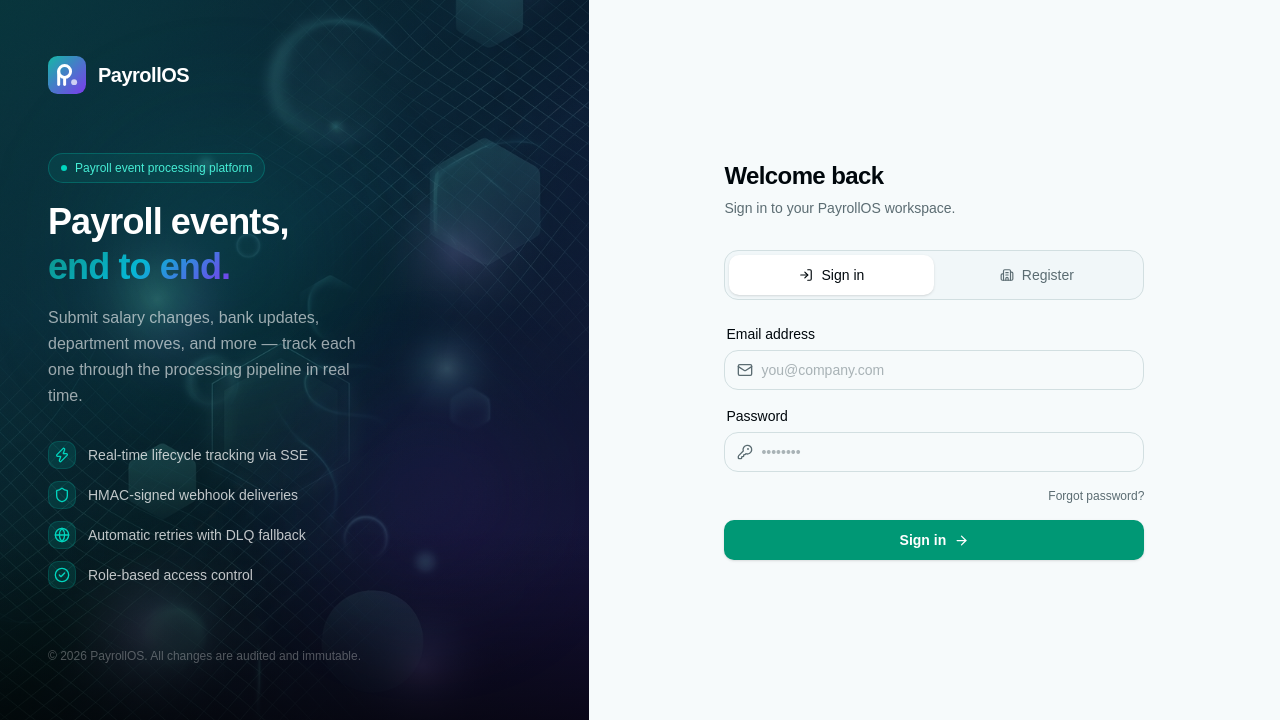
Scenario: AuthView › surfaces a failed sign-in without clearing the typed values
The width and height of the screenshot is (1280, 720).
In the field labelled "Email address": x=934, y=370 left=725, top=351, right=1143, bottom=389, type "owner@acme.example"
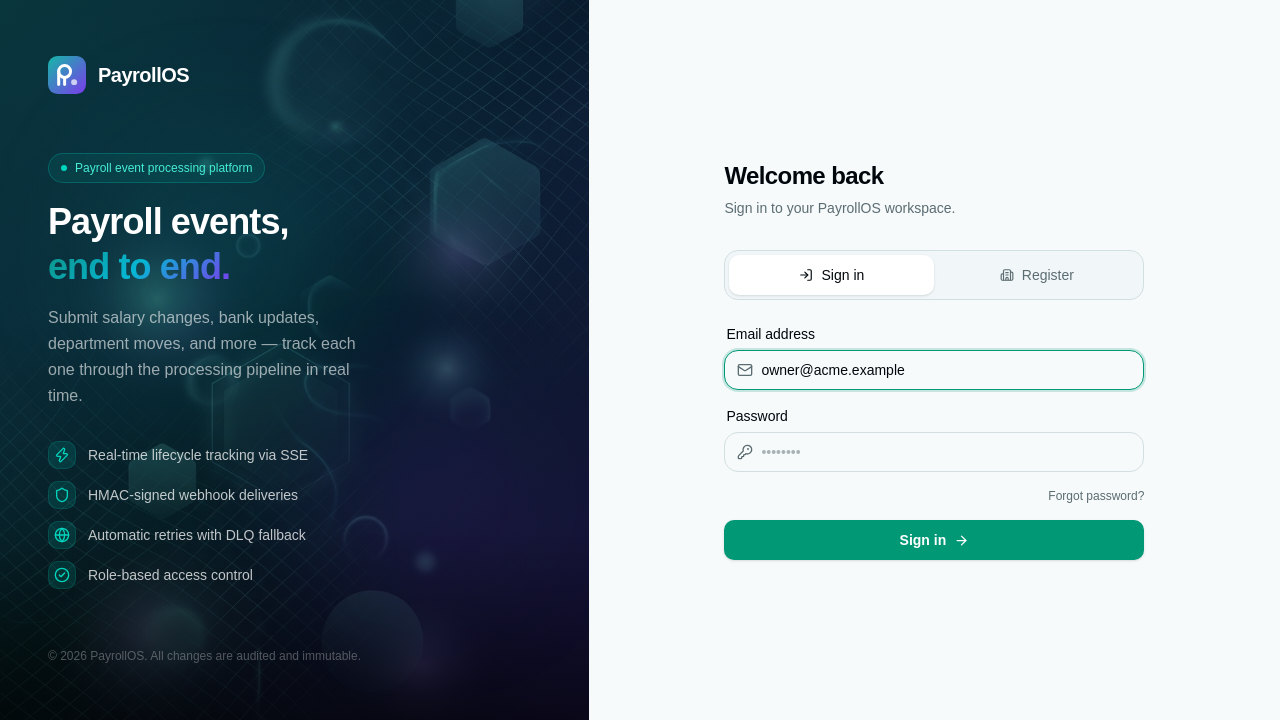
In the password field labelled "Password": x=934, y=452 left=725, top=433, right=1143, bottom=471, type "correct-horse-battery"
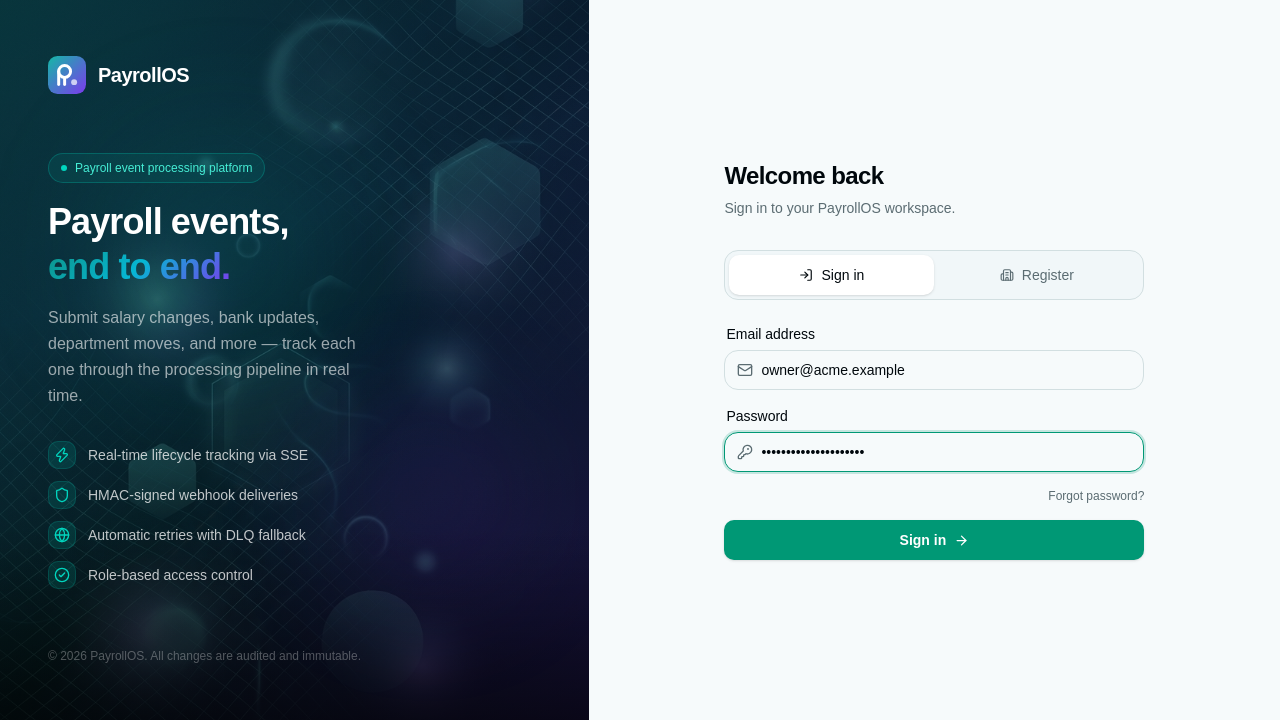
Click the button with test id "auth-submit": x=934, y=540 left=724, top=520, right=1144, bottom=560
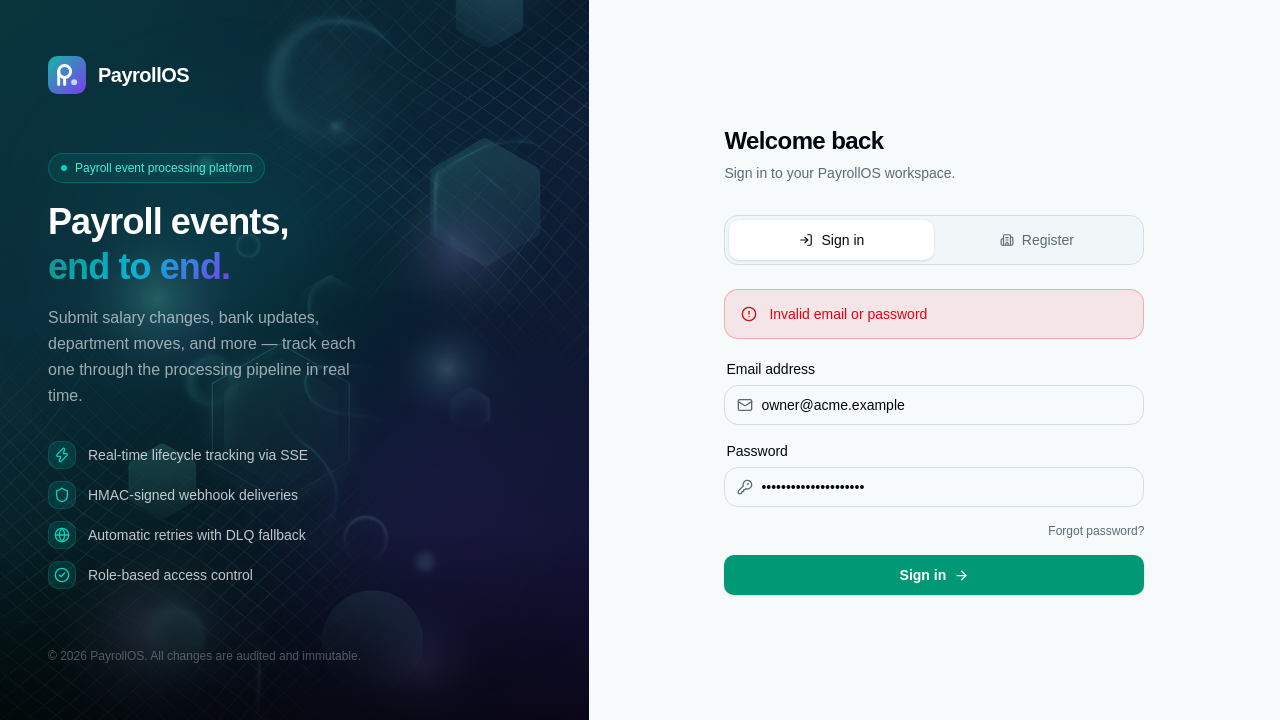
Check: the message reads "Invalid email or password", box left=769, top=306, right=927, bottom=322
